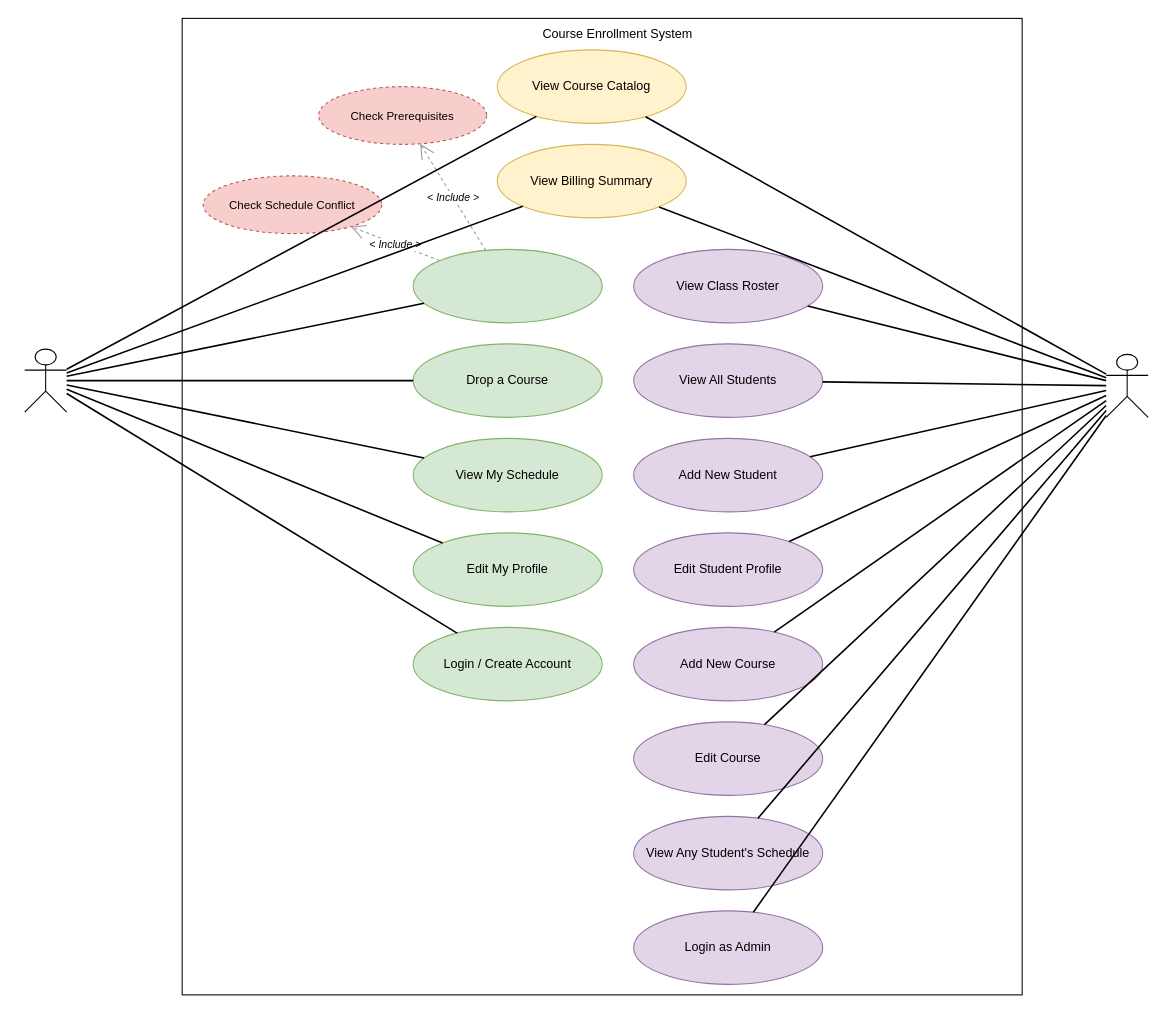
The diagram is 1168 pixels wide and 1013 high, and some of its shapes have lost their labels. The centre of each missing label's shape, as x and y in pixels:
"Admin" goes at [1126,385].
"Register for Course" goes at [507,285].
"Student" goes at [45,380].
